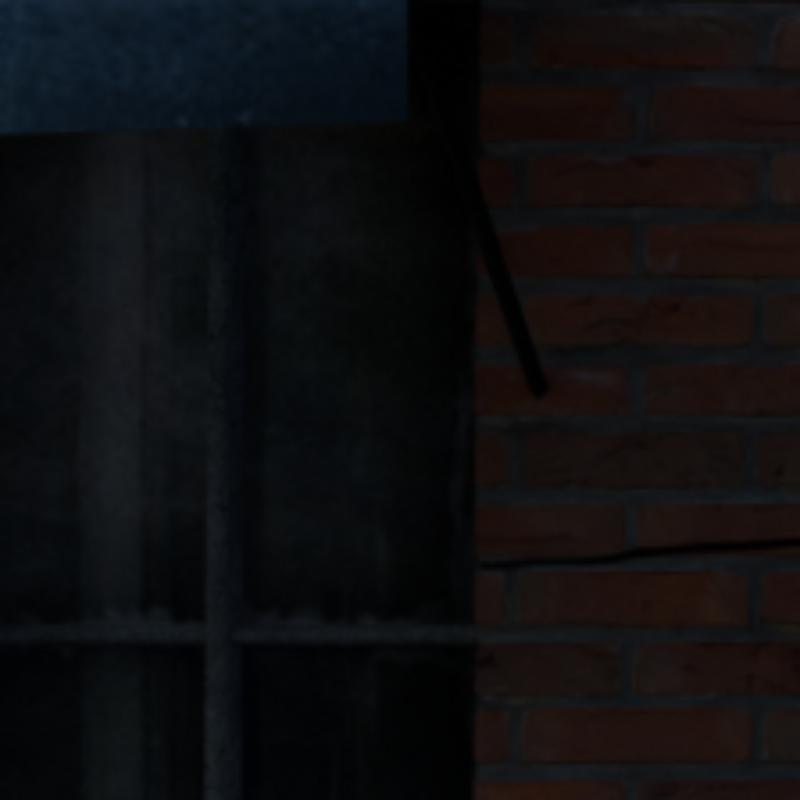pothole: (482, 539, 796, 564)
